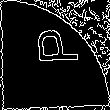P_W: (30, 36, 80, 74)
